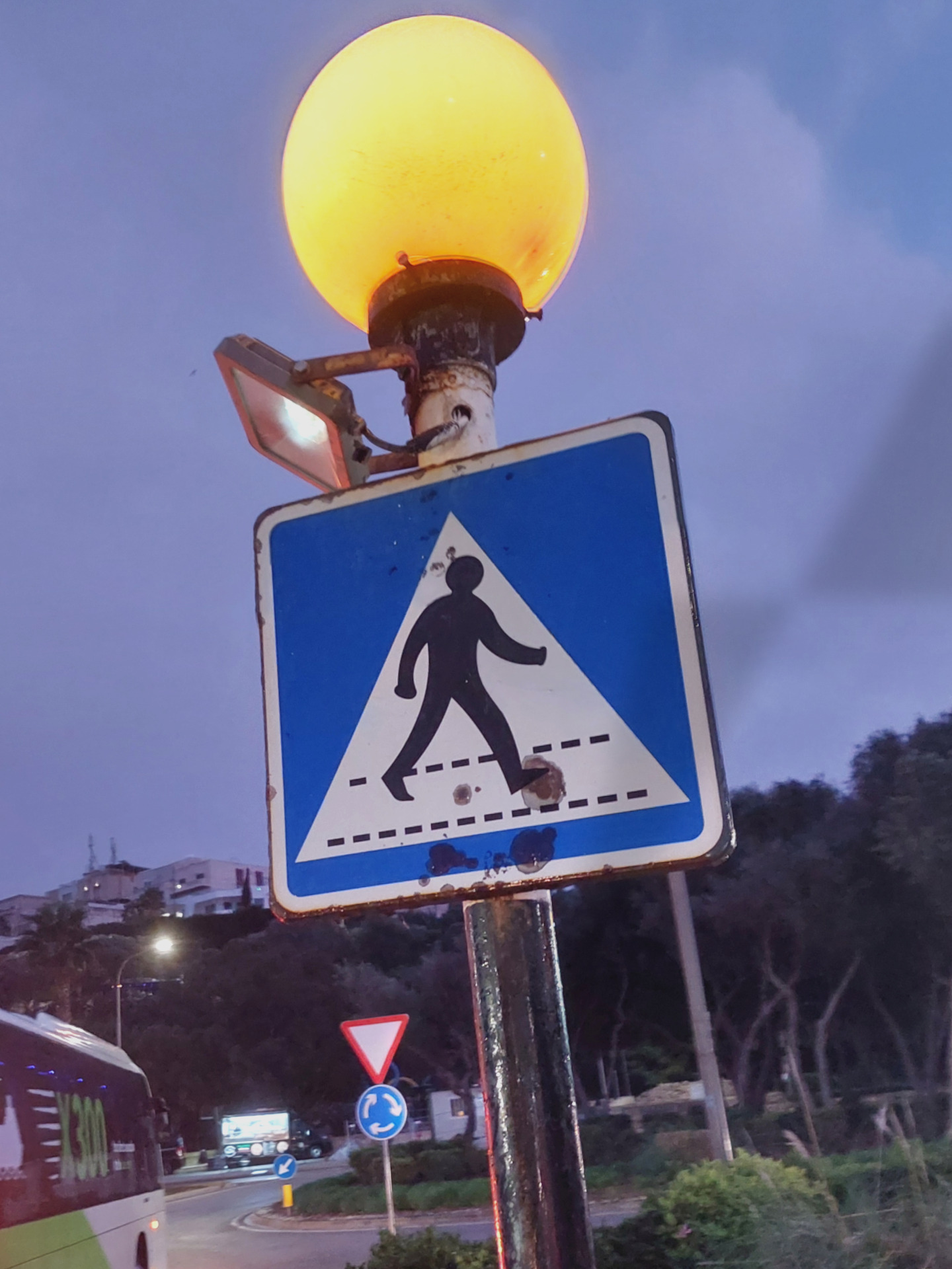Directional Sign: (272, 1152, 298, 1181)
Other-Unknown: (340, 1014, 414, 1087)
Pedestrian Crossing: (239, 406, 740, 925)
Roundabout Ahead: (353, 1083, 410, 1141)
